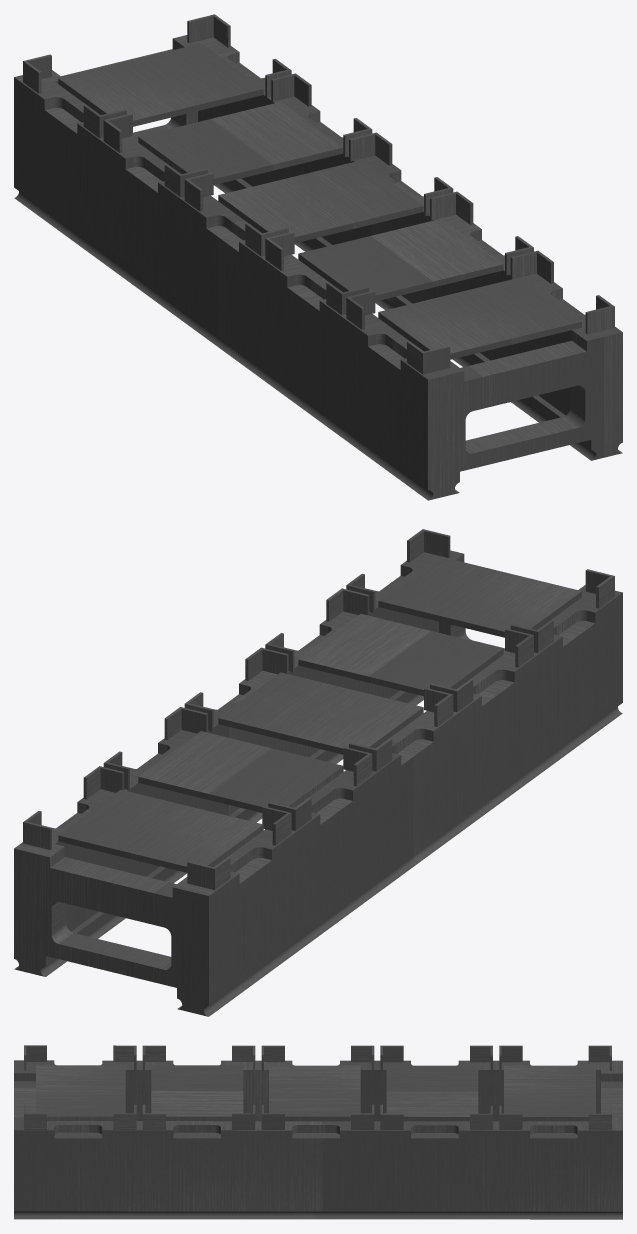
File: PLT_CAR_L5AC_A00.glb
3 views of the same model, one above another, from view 1: azimuth 30°, elevation 25°; view 2: azimuth 150°, elevation 25°; view 3: azimuth 270°, elevation 25° (orthographic). The views are drawn at different scales.
Visible parts, largest first — view 1: mesh99; view 2: mesh99; view 3: mesh99.
Boxes of the visible parts, x1,y1,x2,y2 form: mesh99: (14,14,622,500); mesh99: (14,529,622,1016); mesh99: (14,1045,622,1219).
Size of the model in its own units: 0.135 by 0.0943 by 0.497.
Materials: 1 (1 with a texture image).
